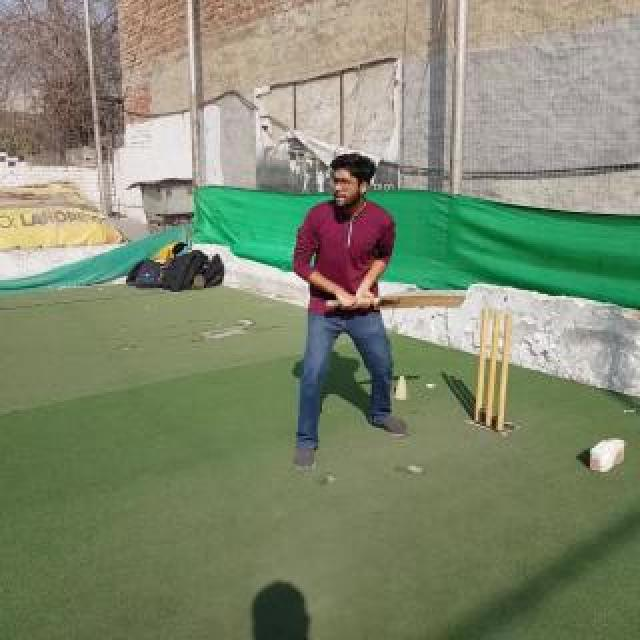bat: (326, 290, 466, 310)
